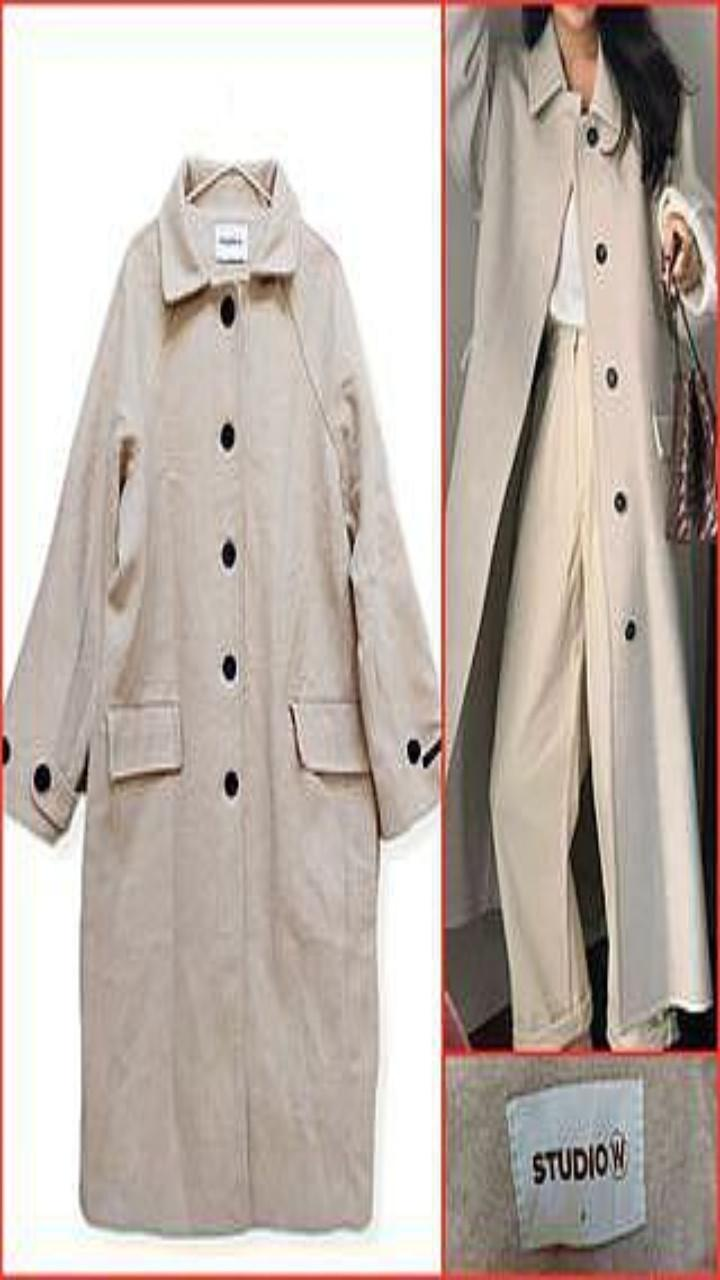Coat: (4, 161, 439, 1232), (446, 10, 711, 1024)
